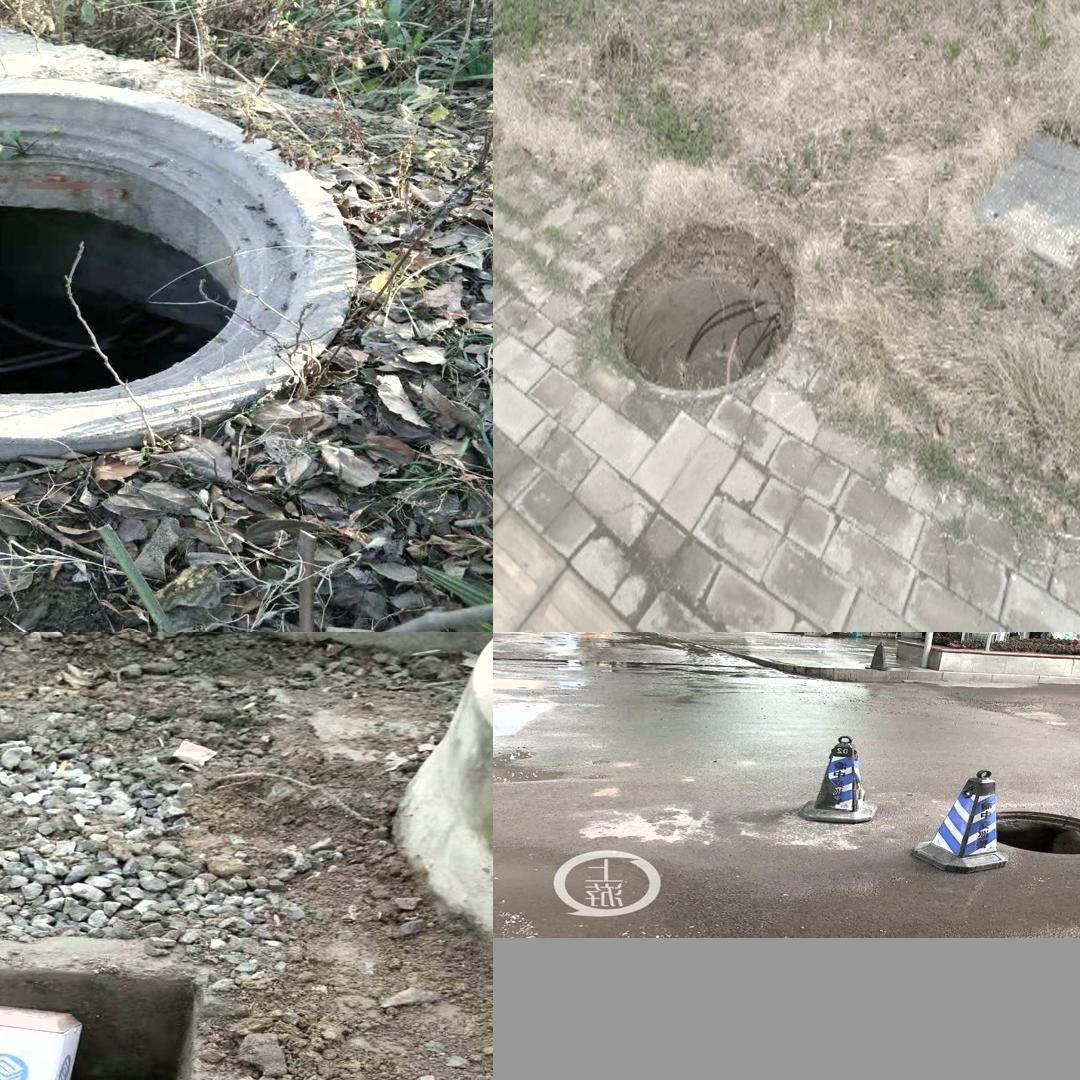lose: (0, 76, 356, 465), (605, 205, 808, 394), (0, 961, 214, 1080), (966, 797, 1080, 860)
